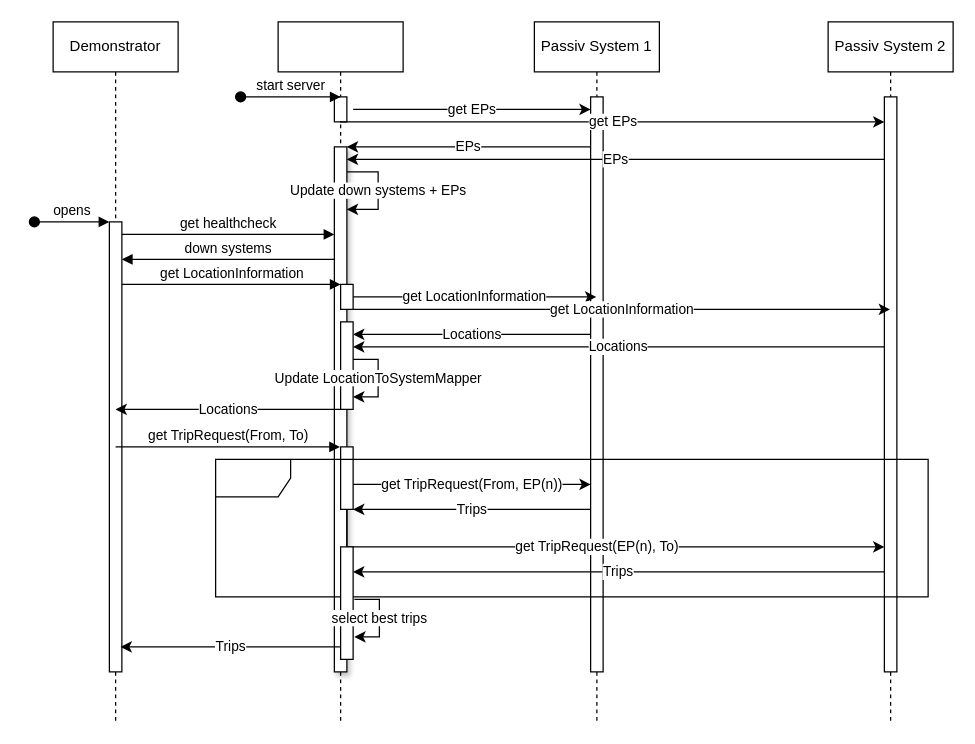
This 975x744 diagram has some shape labels left out. The centre of each missing label's shape, as x and y in pixels:
GR Trip Planner: pixel 340 371
loop EPs: pixel 571 527
